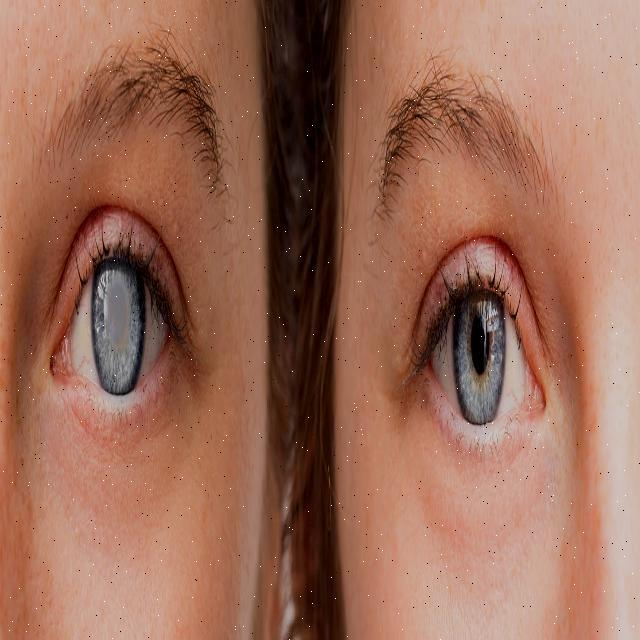Cataract: (72, 212, 157, 412)
